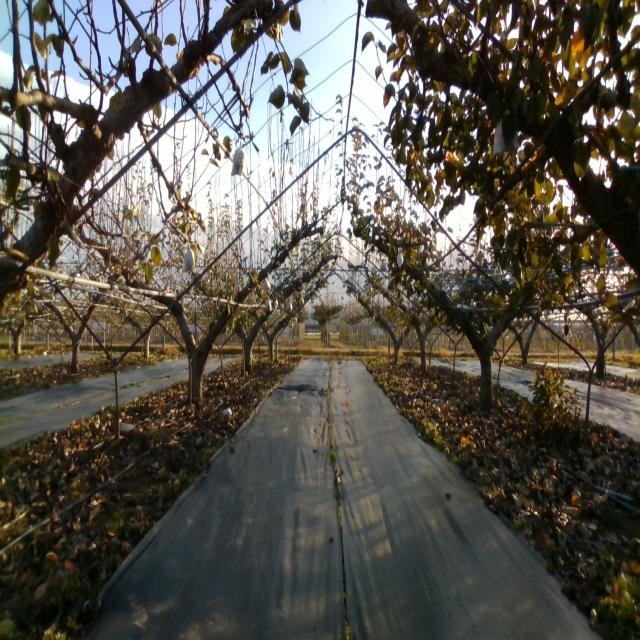pearbags: (181, 241, 196, 274), (230, 142, 244, 177)
